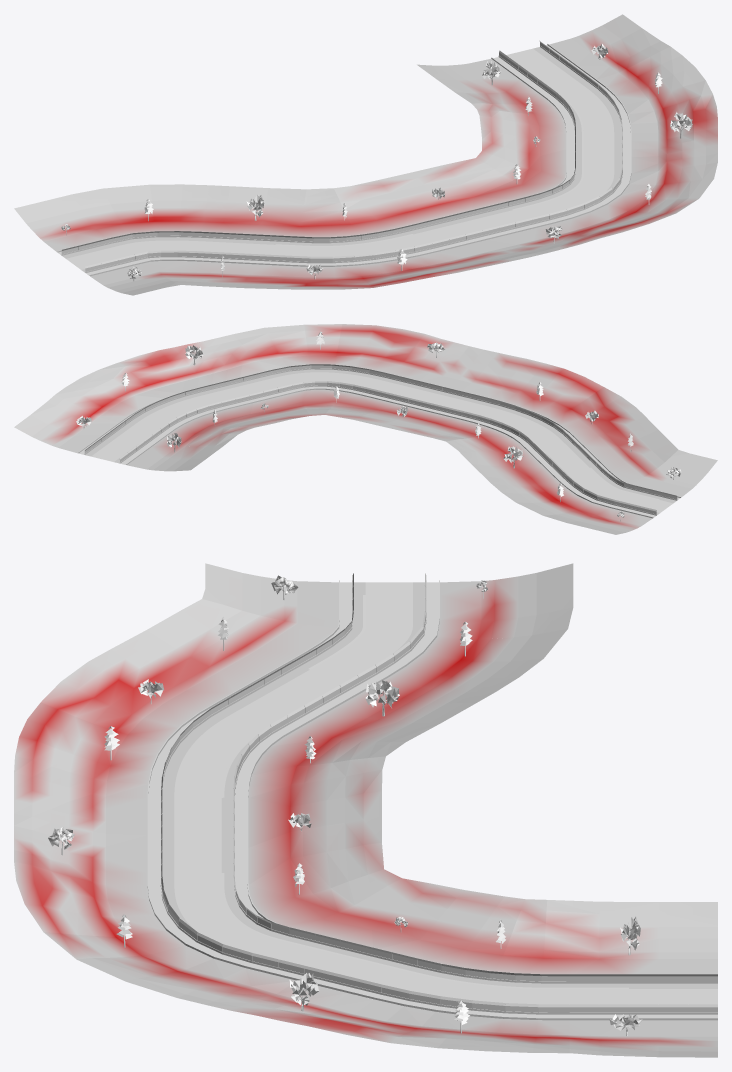
3 views of the same model, one above another, from view 1: azimuth 30°, elevation 25°; view 2: azimuth 150°, elevation 25°; view 3: azimuth 270°, elevation 25° (orthographic). The views are drawn at different scales.
Parts seen in each view (by area): view 1: Grass, Road, Track, Wirefence, Trees; view 2: Grass, Road, Track, Wirefence, Trees; view 3: Grass, Road, Track, Wirefence, Trees.
Part boxes in pixels (x1,y1,x2,y2): Grass: (14, 14, 717, 295); Road: (66, 48, 613, 269); Track: (57, 40, 631, 276); Wirefence: (61, 41, 622, 271); Trees: (61, 44, 692, 281); Grass: (14, 324, 717, 534); Road: (92, 372, 672, 512); Track: (78, 364, 680, 518); Wirefence: (85, 364, 677, 514); Trees: (76, 331, 681, 521); Grass: (14, 563, 717, 1057); Road: (175, 582, 717, 1004); Track: (147, 580, 717, 1020); Wirefence: (161, 573, 717, 1012); Trees: (48, 575, 642, 1035).
Size of what is drawn, in the model's own units: 44500 by 2009 by 26783.
